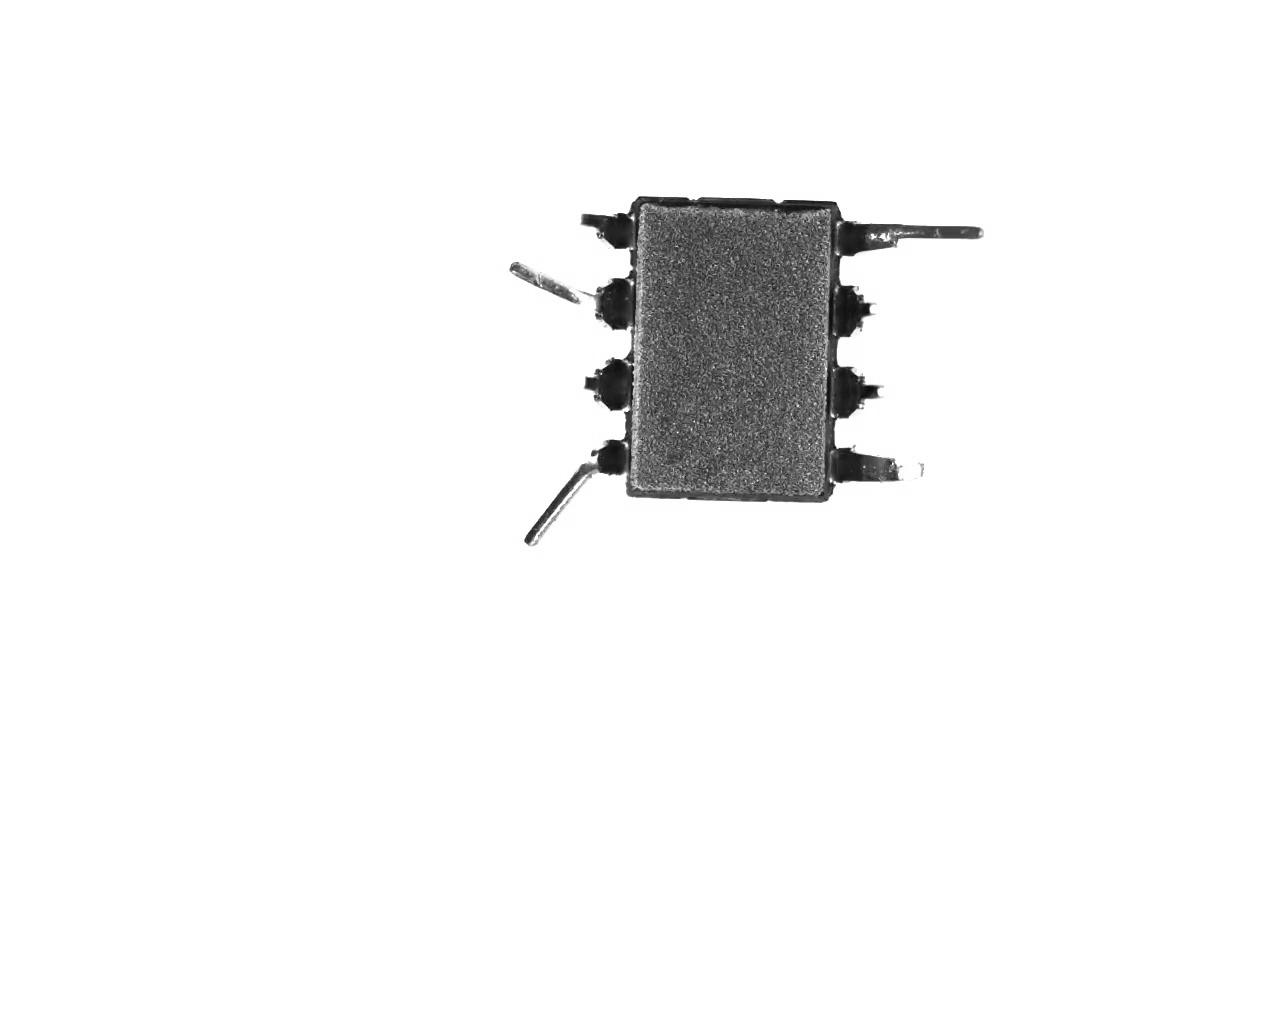Leg: (509, 437, 641, 552), (504, 252, 642, 338), (822, 215, 986, 257), (823, 443, 937, 498)
brokenLeg: (556, 355, 645, 414), (567, 203, 649, 263), (818, 360, 889, 425), (828, 283, 884, 340)
